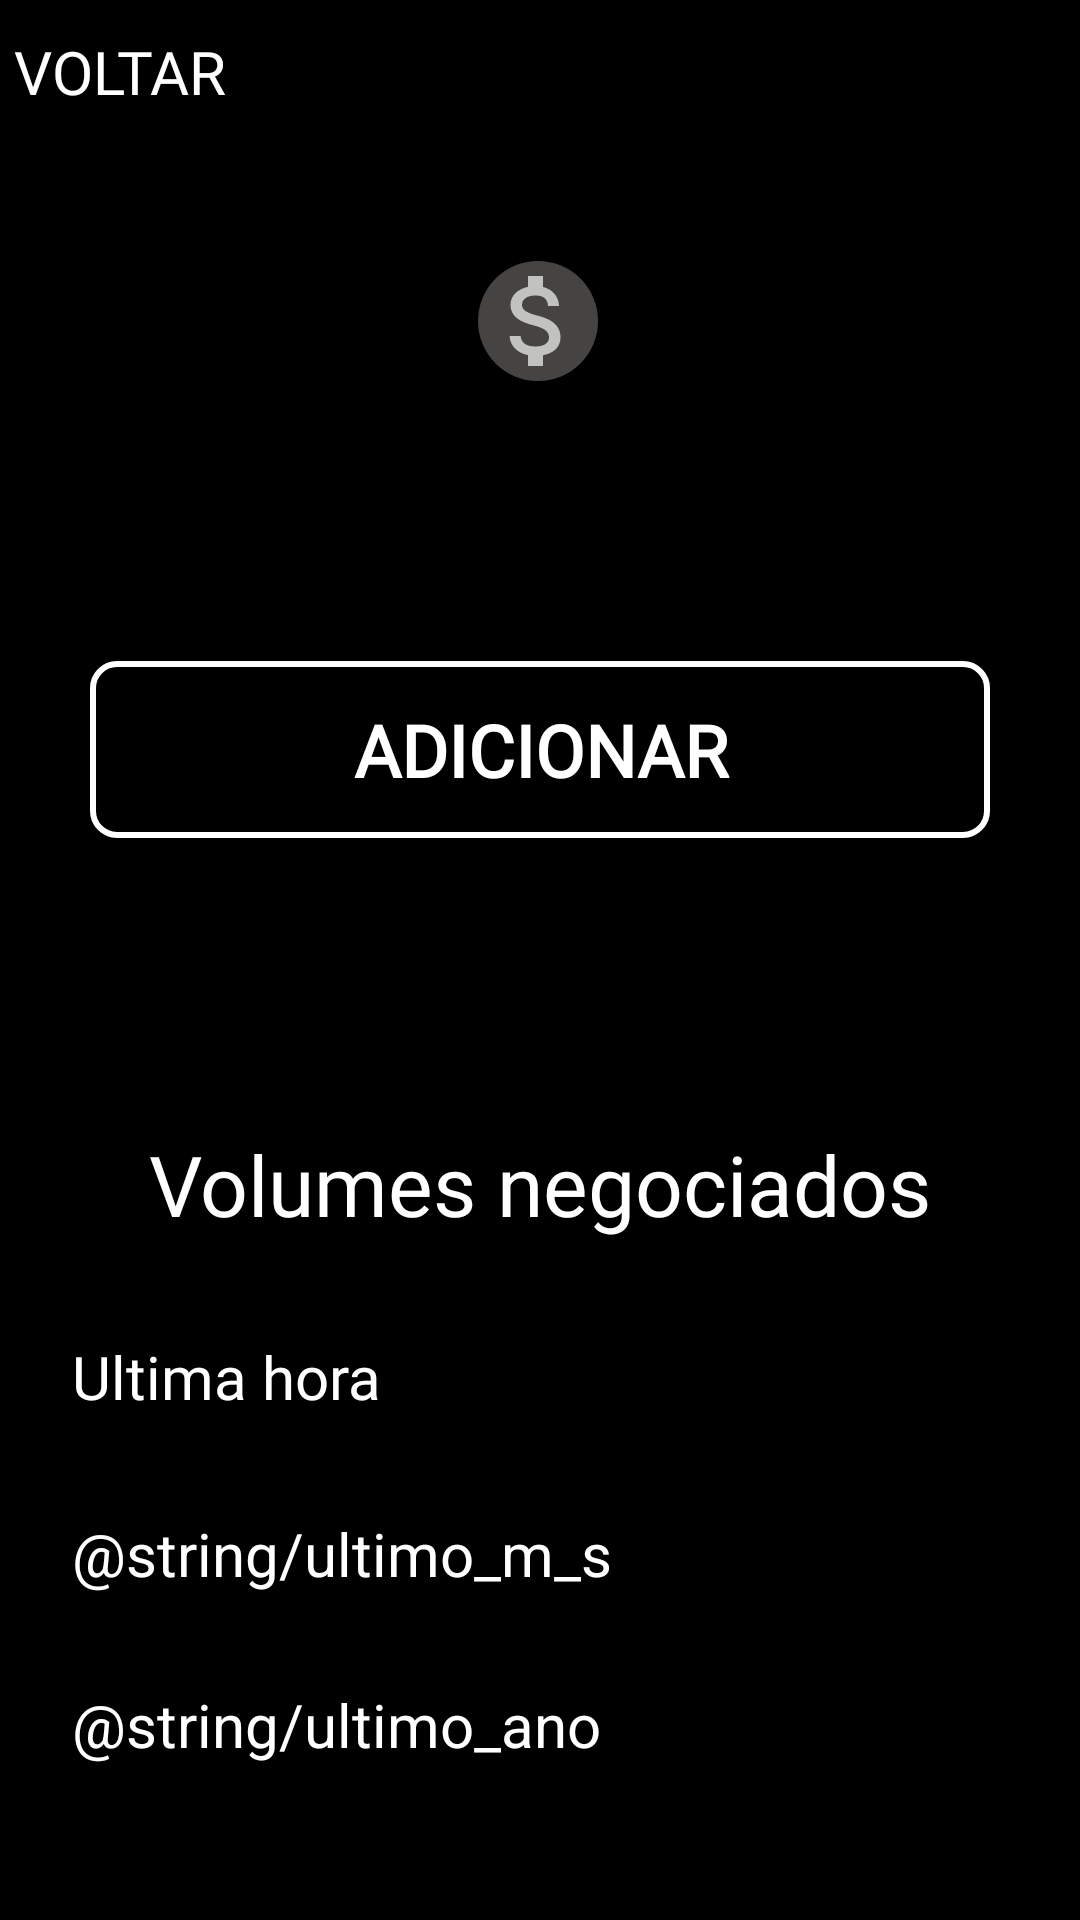

Icons on this 1080w x 1920h Android screen, each with its box as (x1, y1, x2, y2):
icone da moeda: (478, 261, 598, 381)
